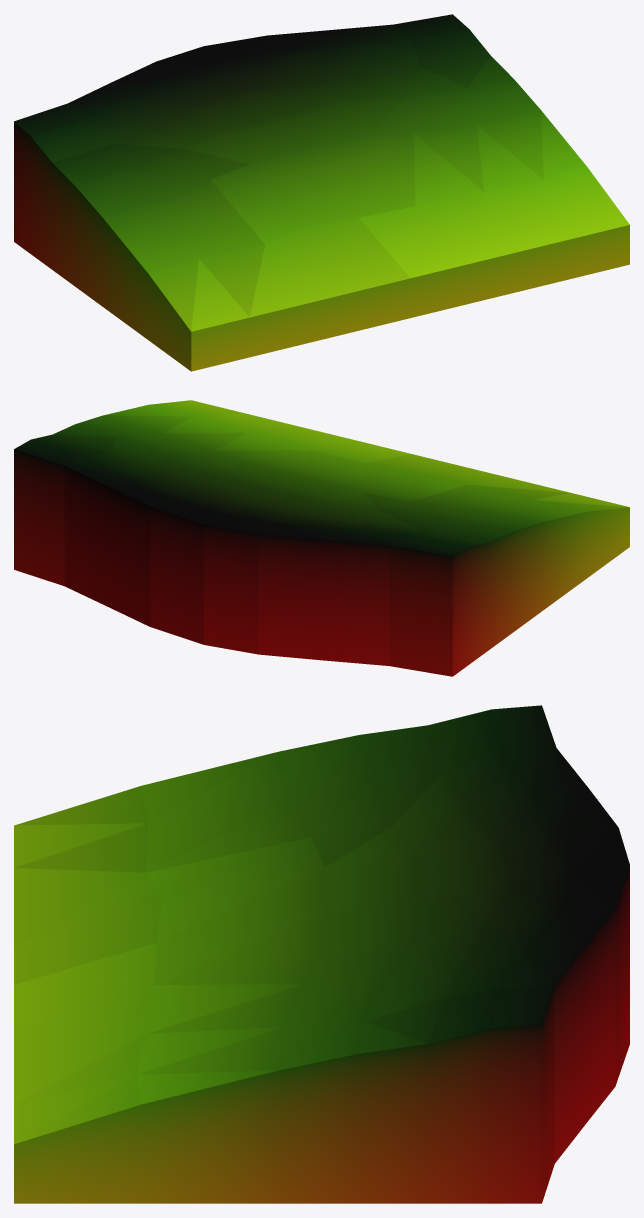
File: SM_ShallowShelf_Cove_01.fbx
3 renders of one model, top to bottom at view 1: azimuth 30°, elevation 25°; view 2: azimuth 150°, elevation 25°; view 3: azimuth 270°, elevation 25°, orthographic. The views are drawn at different scales.
Parts seen in each view (by area): view 1: SM_ShallowShelf_Cove_01; view 2: SM_ShallowShelf_Cove_01; view 3: SM_ShallowShelf_Cove_01.
Boxes of the visible parts, bbox=[...] form: SM_ShallowShelf_Cove_01: bbox=[14, 14, 629, 371]; SM_ShallowShelf_Cove_01: bbox=[14, 400, 629, 676]; SM_ShallowShelf_Cove_01: bbox=[14, 705, 629, 1203].
Bounding box in the file's own units: 6 × 4.9 × 1.57.
